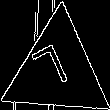L_SE: (35, 41, 80, 100)
